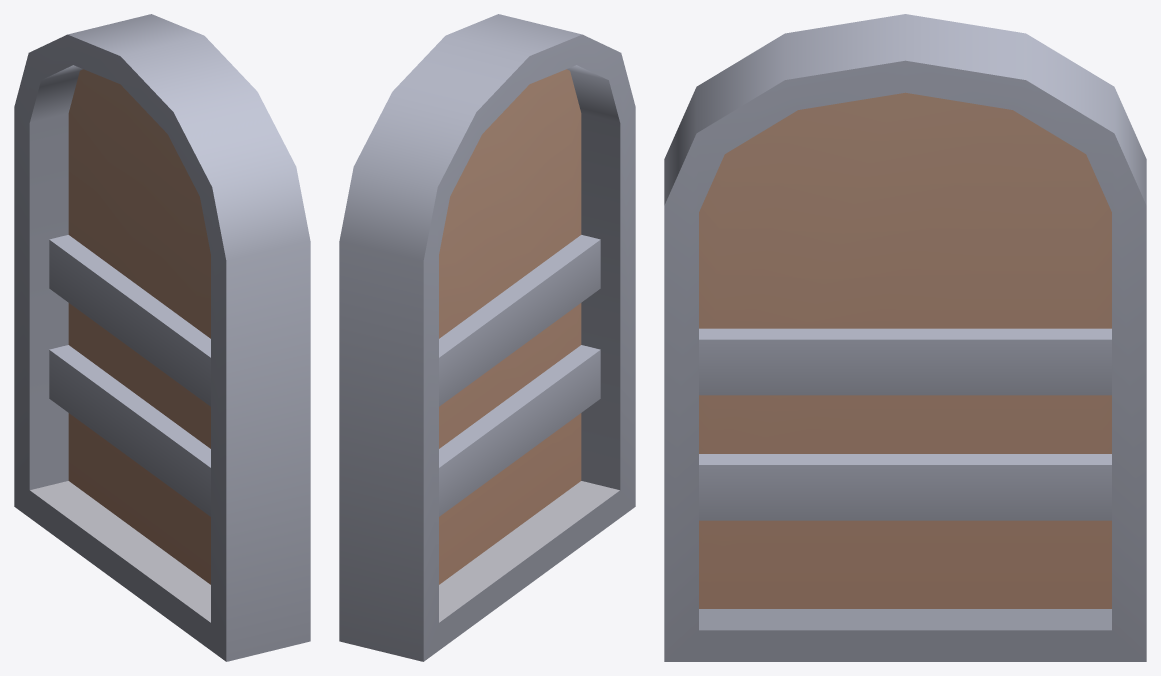
File: gate.glb
3 views of the same model, side by side, from view 1: azimuth 30°, elevation 25°; view 2: azimuth 150°, elevation 25°; view 3: azimuth 270°, elevation 25° (orthographic). The views are drawn at different scales.
Visible parts, largest first — view 1: gate; view 2: gate; view 3: gate.
Boxes of the visible parts, left/top/right/bottom form: gate: left=14, top=14, right=310, bottom=661; gate: left=339, top=14, right=635, bottom=661; gate: left=664, top=14, right=1146, bottom=661.
Size of the model in its own units: 0.1516 by 0.9103 by 0.6622.
